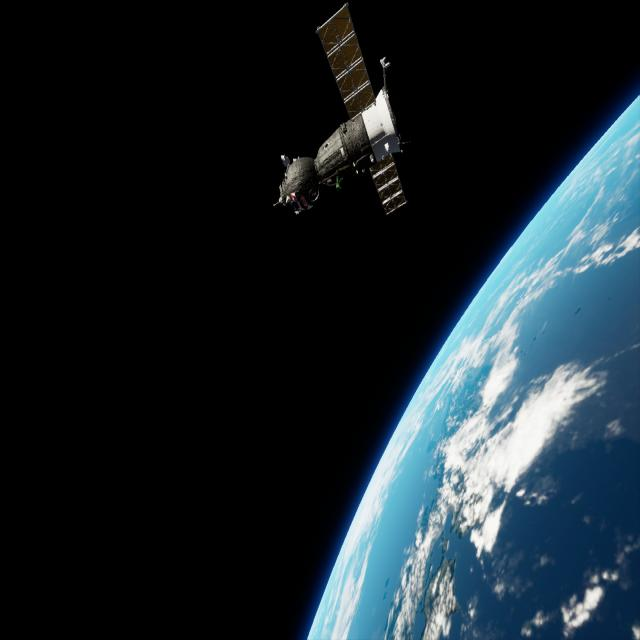Satellites revolving around earth: (305, 93, 639, 638), (272, 2, 410, 220)
